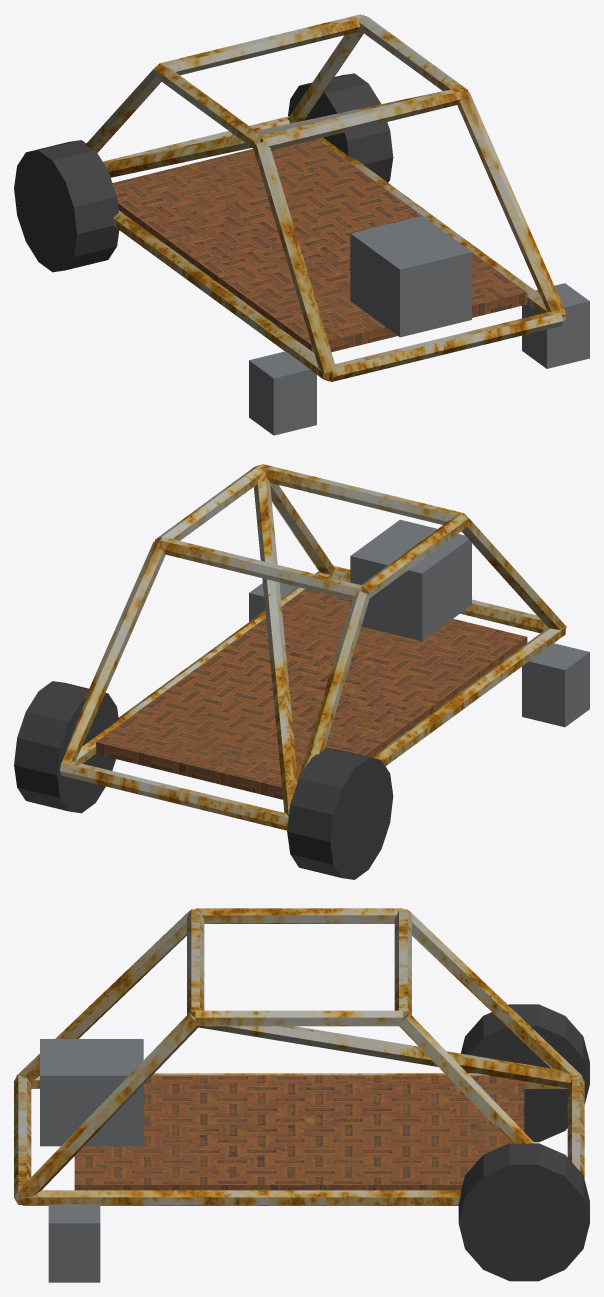
Rendered from mars_stripped_buggy.glb.
3 views of the same model, one above another, from view 1: azimuth 30°, elevation 25°; view 2: azimuth 150°, elevation 25°; view 3: azimuth 270°, elevation 25° (orthographic). The views are drawn at different scales.
Parts seen in each view (by area): view 1: root_rust, root_grate, root_darksteel, root_rubber; view 2: root_grate, root_rust, root_rubber, root_darksteel; view 3: root_grate, root_rust, root_rubber, root_darksteel.
Part boxes in pixels (x1,y1,x2,y2): root_rust: [85, 14, 566, 381]; root_grate: [112, 139, 527, 352]; root_darksteel: [249, 216, 589, 435]; root_rubber: [14, 73, 393, 272]; root_grate: [96, 588, 527, 799]; root_rust: [59, 464, 566, 830]; root_rubber: [14, 681, 393, 879]; root_darksteel: [249, 519, 589, 727]; root_grate: [74, 1075, 524, 1190]; root_rust: [14, 908, 584, 1205]; root_rubber: [458, 1004, 589, 1281]; root_darksteel: [40, 1039, 143, 1282].
Bounding box in the file's own units: 2.2 × 1.55 × 3.33.
4 materials, 2 textured.
